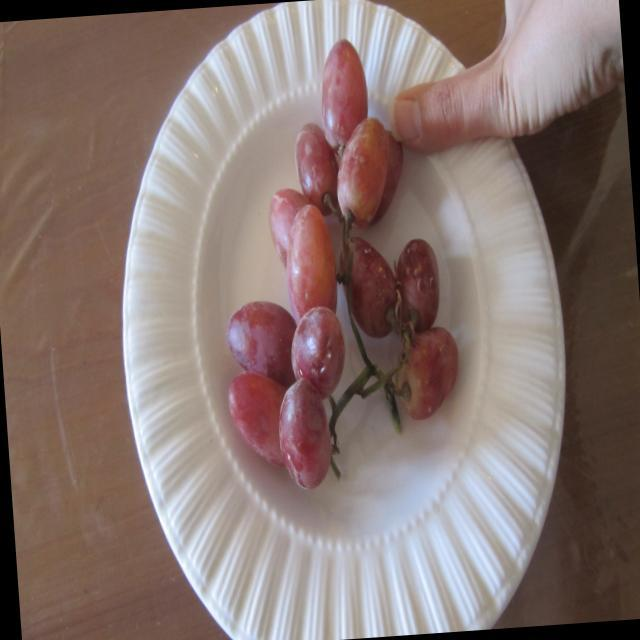Finger: (386, 59, 470, 162)
Grapes: (197, 29, 416, 506)
